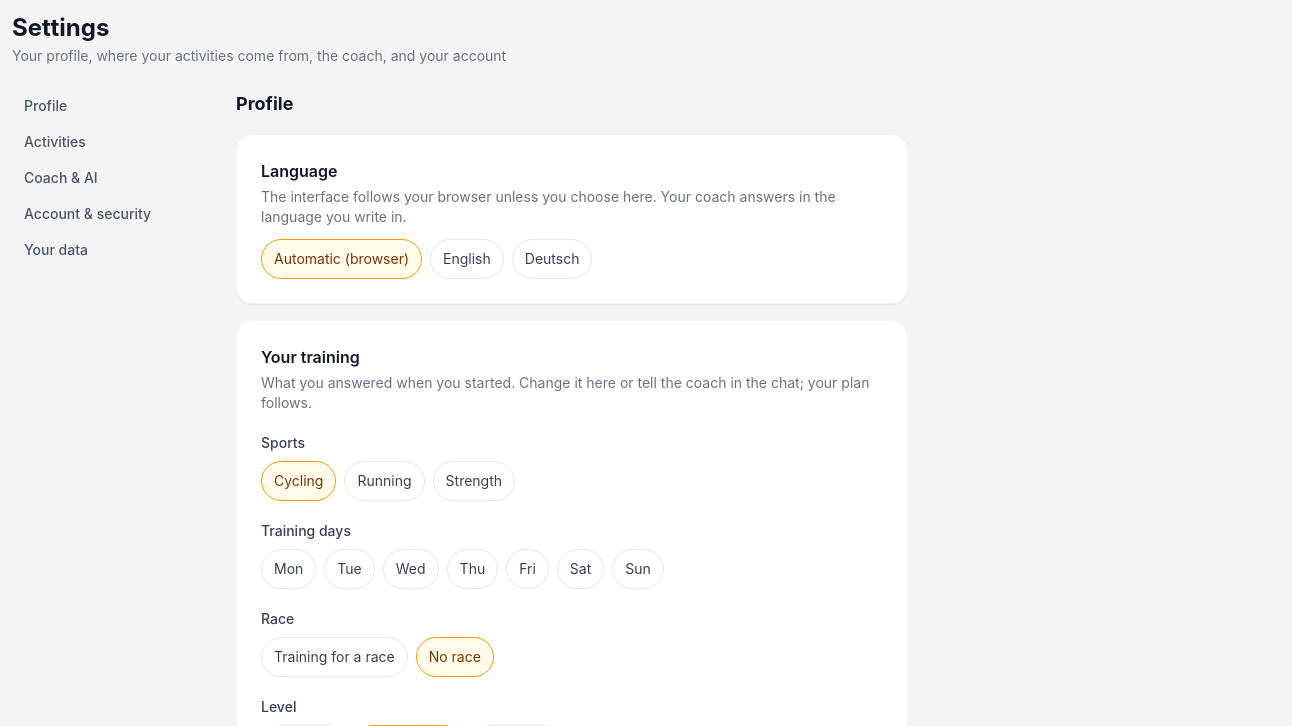
Test case: SettingsPage › switches the interface to German at once and back to the browser (ai-trainer-ops#103 Q27)
Click the radio button labelled "Deutsch" at (552, 259), box [512, 239, 592, 279]
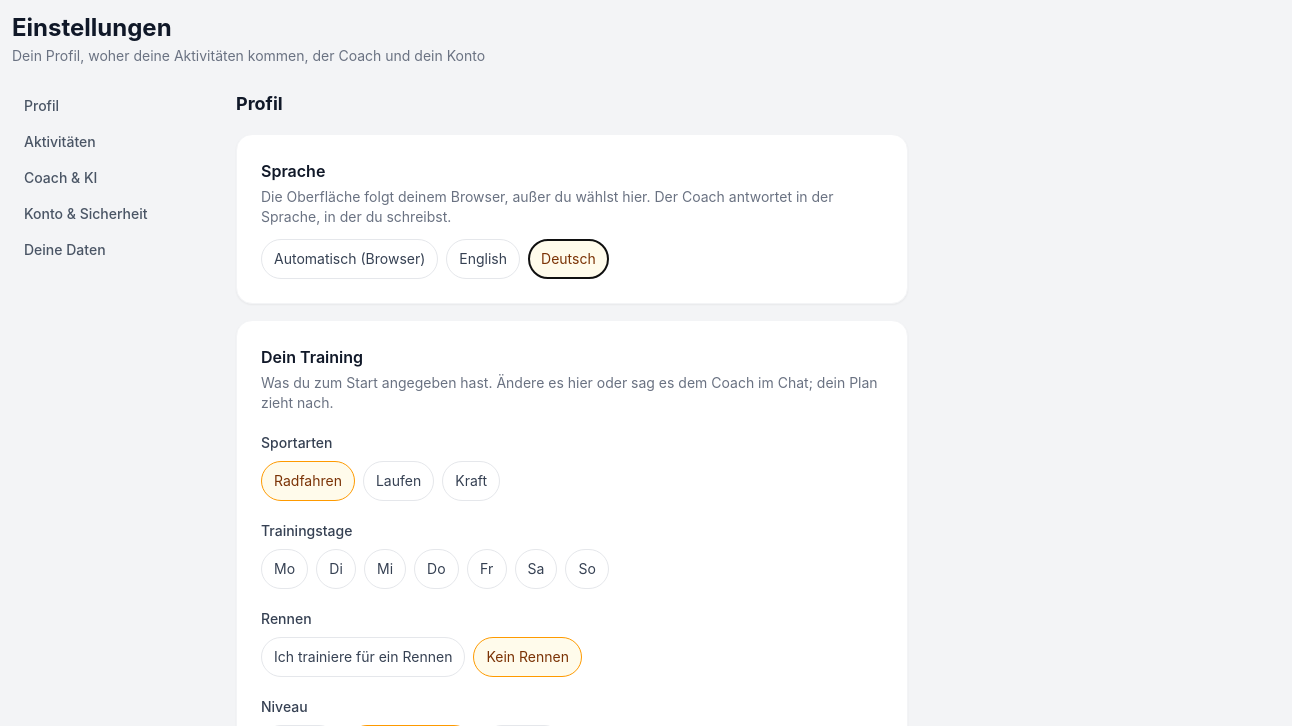
Expected: the link "Profil" is shown, [24, 97, 59, 114]
Expected: the heading "Sprache" is shown, [261, 161, 325, 181]
Click the radio button labelled "Automatisch (Browser)" at (350, 259), box [261, 239, 438, 279]
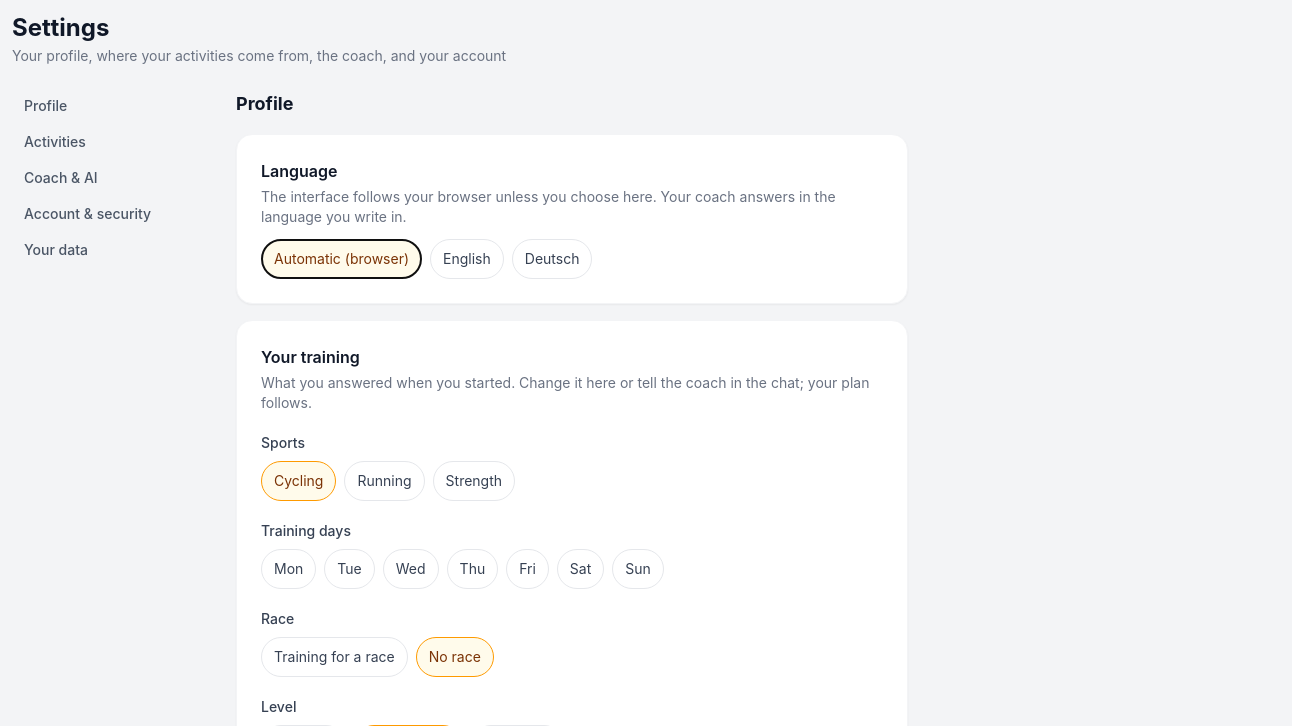
Expected: the heading "Language" is shown, [261, 161, 338, 181]
